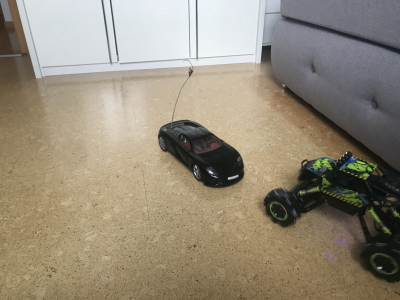remote control car: (261, 147, 400, 286)
